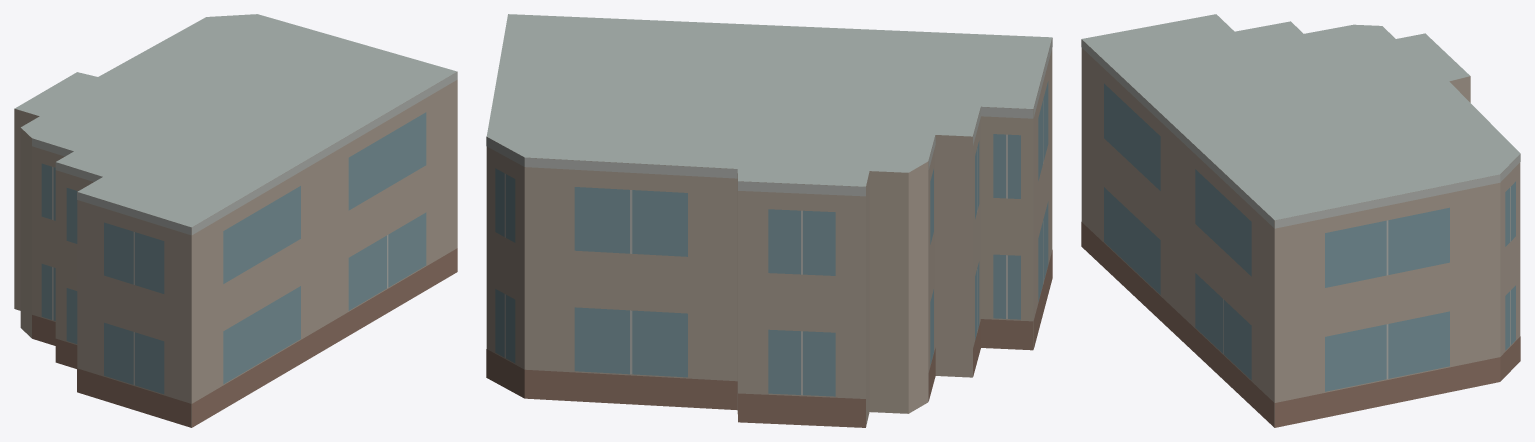
File: survey-upis-32823896.glb
3 renders of one model, left to right at view 1: azimuth 30°, elevation 25°; view 2: azimuth 150°, elevation 25°; view 3: azimuth 270°, elevation 25°, orthographic. The views are drawn at different scales.
Visible parts, largest first — view 1: survey-upis-32823896.tmp; view 2: survey-upis-32823896.tmp; view 3: survey-upis-32823896.tmp.
Part boxes in pixels (bbox=[...]): survey-upis-32823896.tmp: bbox=[14, 14, 457, 427]; survey-upis-32823896.tmp: bbox=[486, 14, 1052, 427]; survey-upis-32823896.tmp: bbox=[1081, 14, 1520, 427].
Size of the model in its own units: 13.02 by 6.1 by 11.71.
